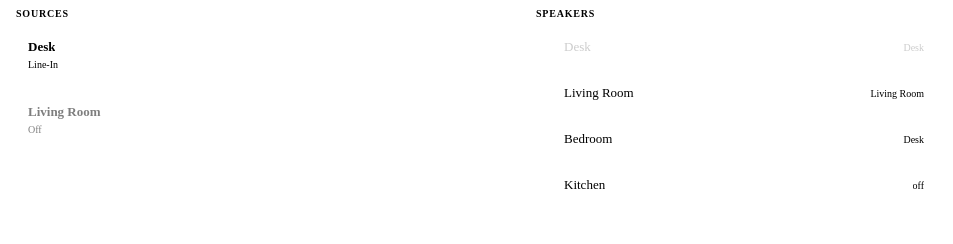
Test: GroupsModal , join/leave mutation error reverts optimistic state › reverts the optimistic LED when sonosGroupLeave itself fails
Click the button with aria-label "Bedroom, following Desk": (588, 138) [536, 121, 936, 157]
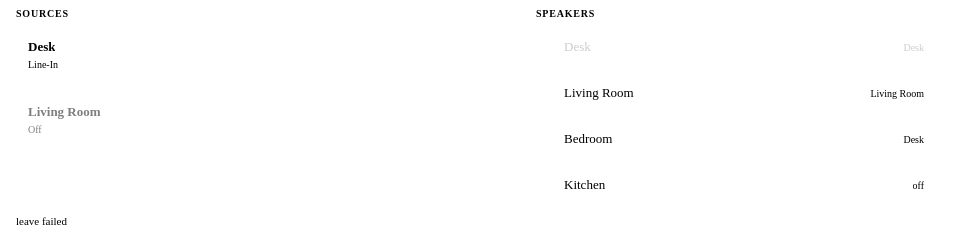
Result: the text "leave failed" is shown at [16, 215, 67, 227]
